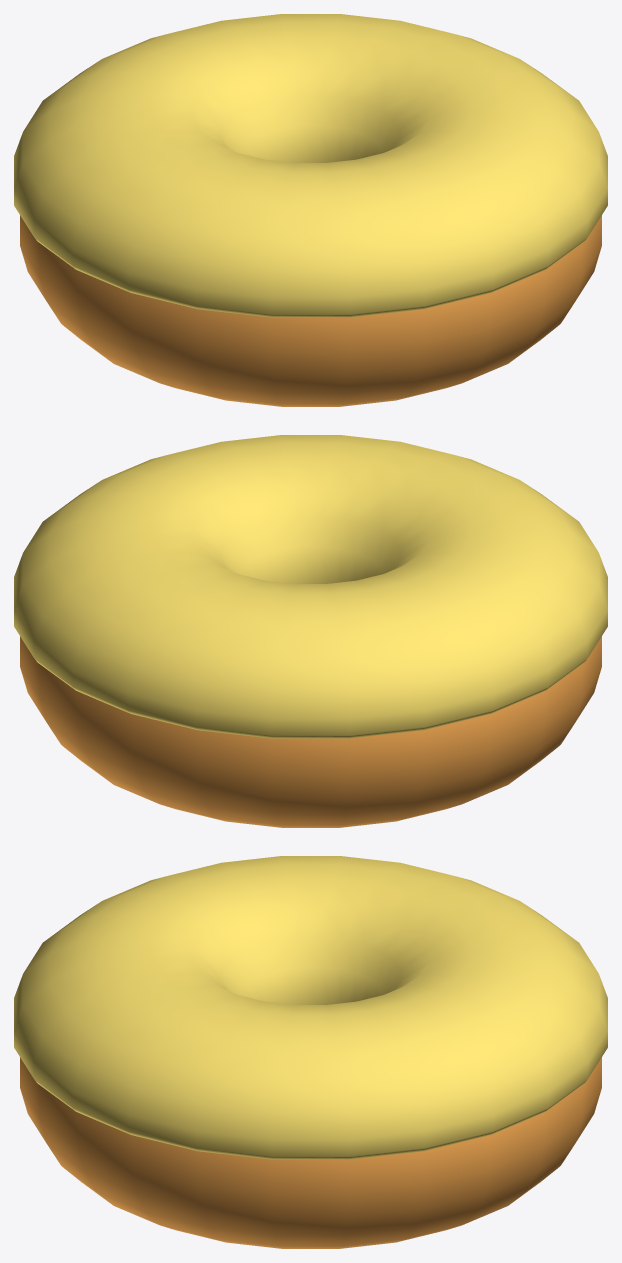
File: donut_06.fbx
The picture shows the model from 3 angles, top to bottom: view 1: azimuth 30°, elevation 25°; view 2: azimuth 150°, elevation 25°; view 3: azimuth 270°, elevation 25°; orthographic projection.
Parts seen in each view (by area): view 1: donut_06; view 2: donut_06; view 3: donut_06.
Part boxes in pixels (x1,y1,x2,y2): donut_06: [14, 14, 607, 406]; donut_06: [14, 435, 607, 827]; donut_06: [14, 856, 607, 1248].
Size of the model in its own units: 1716 by 688 by 1716.
